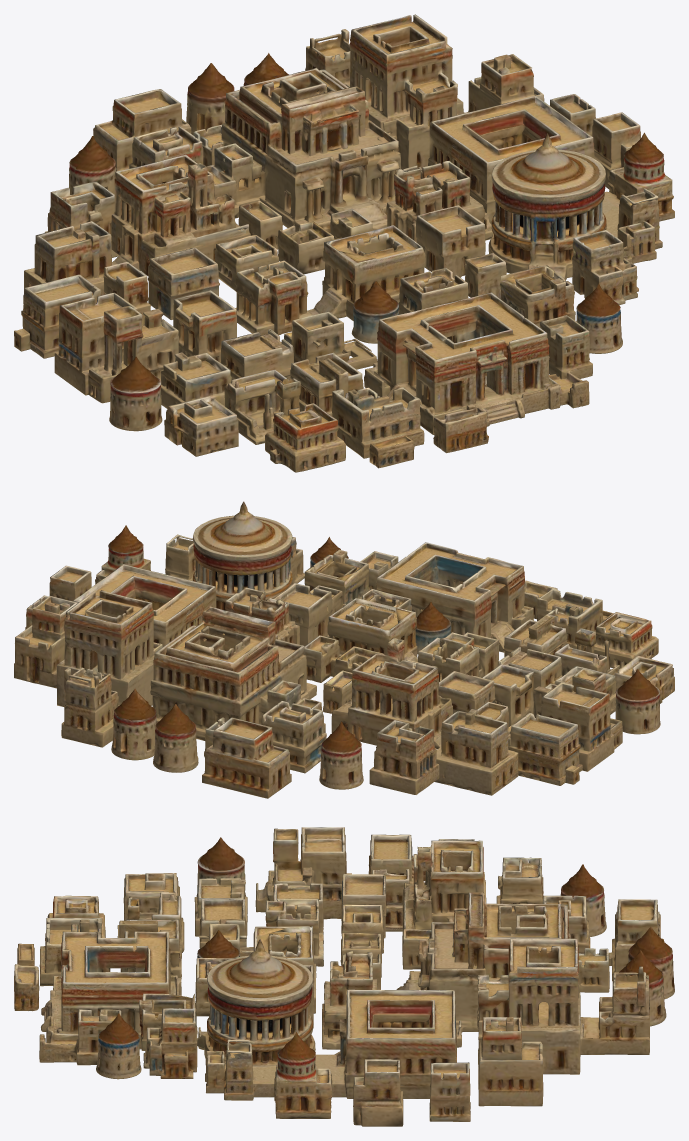
Rendered from Enlightenment City (East African).fbx.
3 views of the same model, one above another, from view 1: azimuth 30°, elevation 25°; view 2: azimuth 150°, elevation 25°; view 3: azimuth 270°, elevation 25° (orthographic). The views are drawn at different scales.
Visible parts, largest first — view 1: tripo_node_1edde4e2; view 2: tripo_node_1edde4e2; view 3: tripo_node_1edde4e2.
Part boxes in pixels (x1,y1,x2,y2): tripo_node_1edde4e2: (14, 14, 674, 472); tripo_node_1edde4e2: (14, 501, 674, 798); tripo_node_1edde4e2: (14, 827, 674, 1126).
Bounding box in the file's own units: 1 × 0.2654 × 0.9969.
